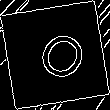O_SW: (23, 22, 87, 88)
